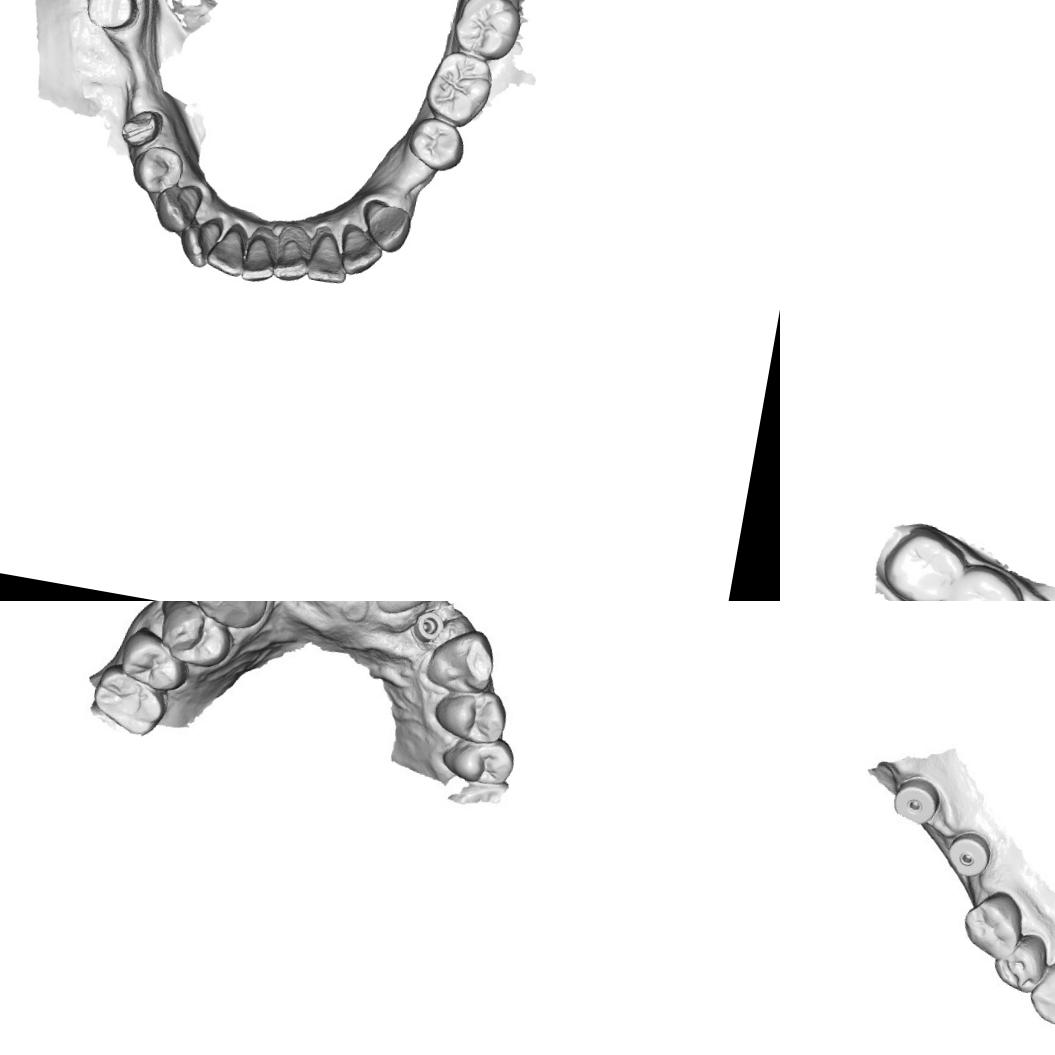canine: (422, 627, 499, 698), (356, 198, 415, 255), (150, 177, 205, 237), (188, 601, 273, 633), (1027, 955, 1055, 1028)
crown: (117, 104, 165, 150), (81, 0, 143, 34)
implant: (938, 824, 1000, 886), (888, 771, 941, 828), (411, 606, 449, 650)
incisor: (174, 212, 225, 272), (302, 228, 352, 286), (336, 224, 386, 278), (203, 221, 249, 277), (238, 230, 278, 286), (271, 232, 312, 286)
molar: (872, 520, 968, 601), (84, 662, 171, 742), (420, 46, 497, 129), (449, 0, 525, 61), (935, 558, 1029, 601)
premolar: (153, 601, 238, 668), (428, 682, 510, 746), (439, 728, 519, 792), (960, 890, 1030, 960), (986, 928, 1052, 995), (118, 630, 190, 690), (403, 114, 469, 176), (127, 140, 186, 198)
